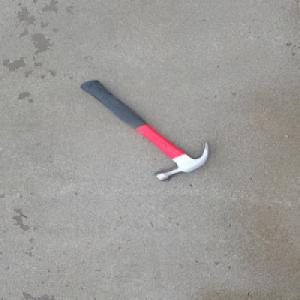Hammer: (77, 78, 209, 181)
